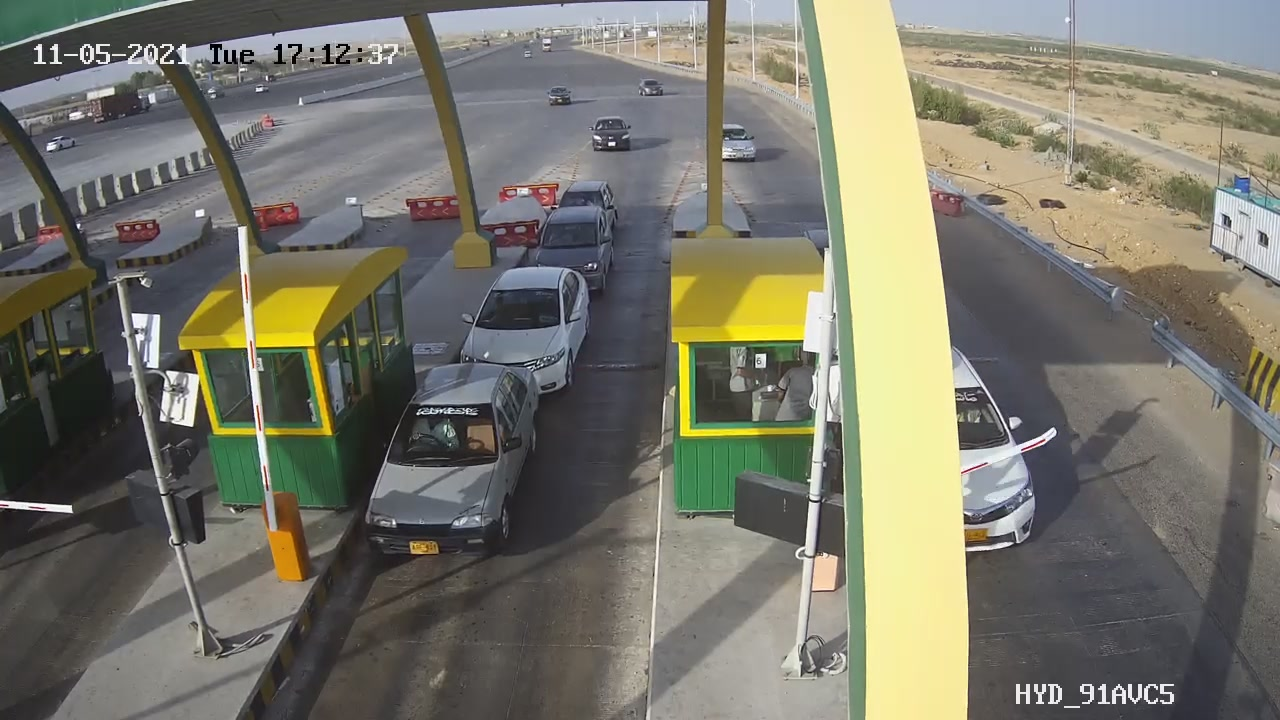F1: (351, 353, 557, 572), (450, 247, 599, 404), (521, 198, 630, 308)
